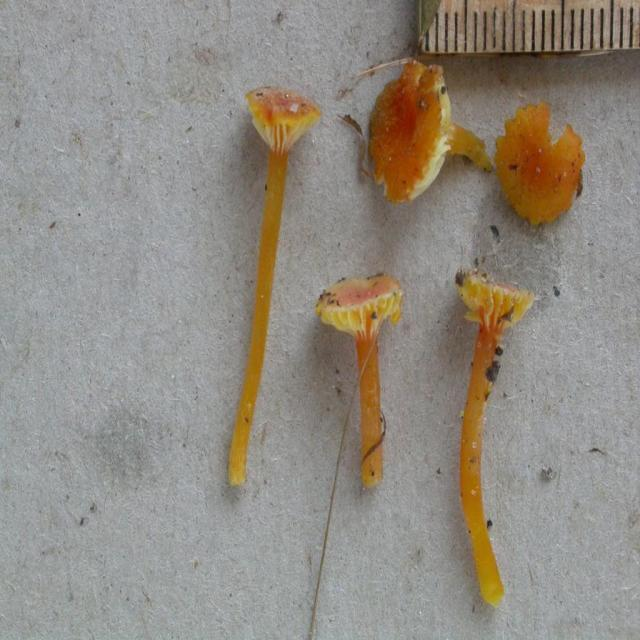Cantharellus cibarius: (230, 79, 318, 499), (456, 277, 531, 602), (316, 277, 402, 492), (371, 60, 484, 203), (498, 107, 583, 225)
